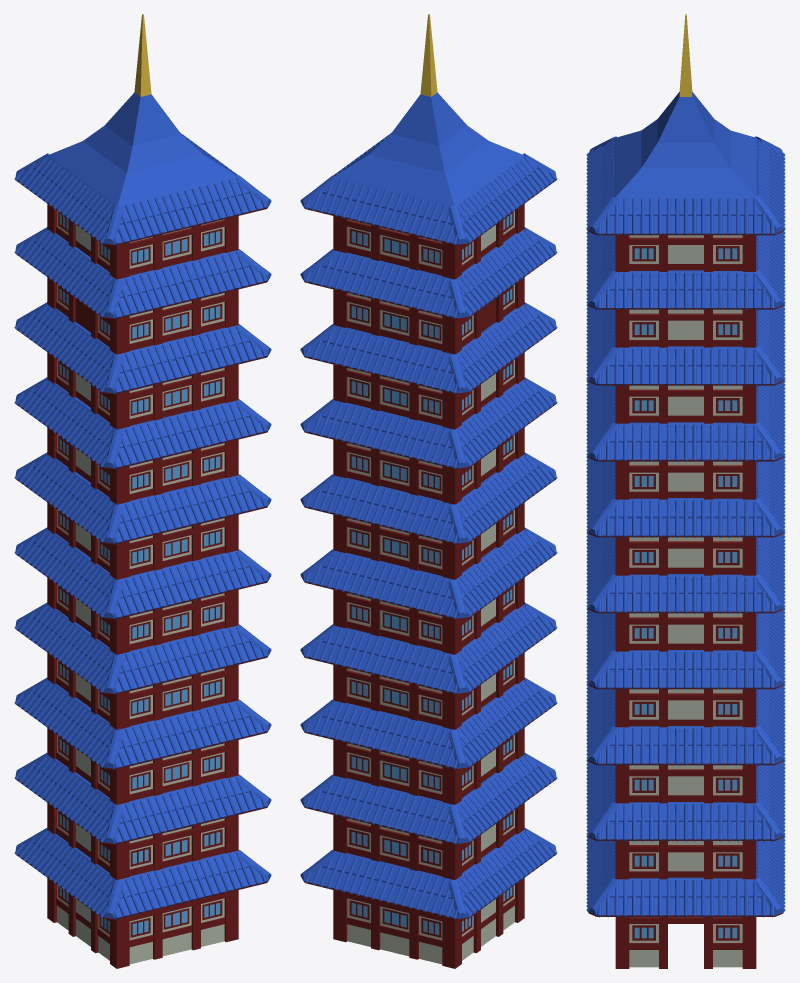
The model's file is Torre.glb.
The picture shows the model from 3 angles, left to right: view 1: azimuth 30°, elevation 25°; view 2: azimuth 150°, elevation 25°; view 3: azimuth 270°, elevation 25°; orthographic projection.
Visible parts, largest first — view 1: torre de la campana, Ventanas; view 2: torre de la campana, Ventanas; view 3: torre de la campana, Ventanas.
Boxes of the visible parts, <box> form: torre de la campana: <box>14,14,271,968</box>; Ventanas: <box>59,213,220,934</box>; torre de la campana: <box>300,14,557,968</box>; Ventanas: <box>351,213,512,934</box>; torre de la campana: <box>586,14,785,968</box>; Ventanas: <box>634,248,737,938</box>.
Size of the model in its own units: 7.01 by 35.84 by 7.
